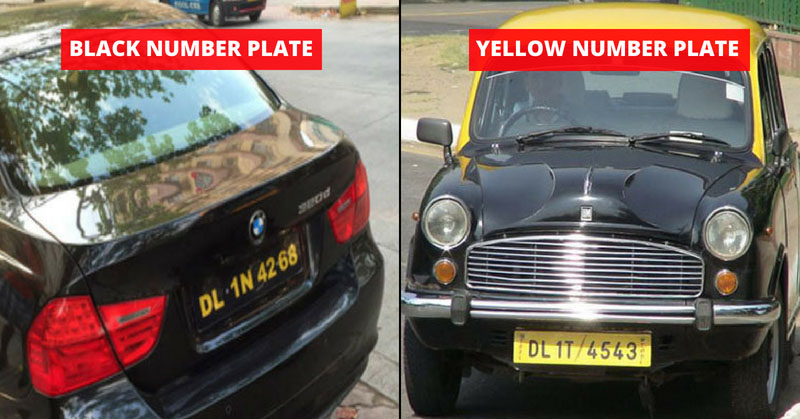number_plate: (174, 243, 322, 320), (510, 326, 655, 371)
